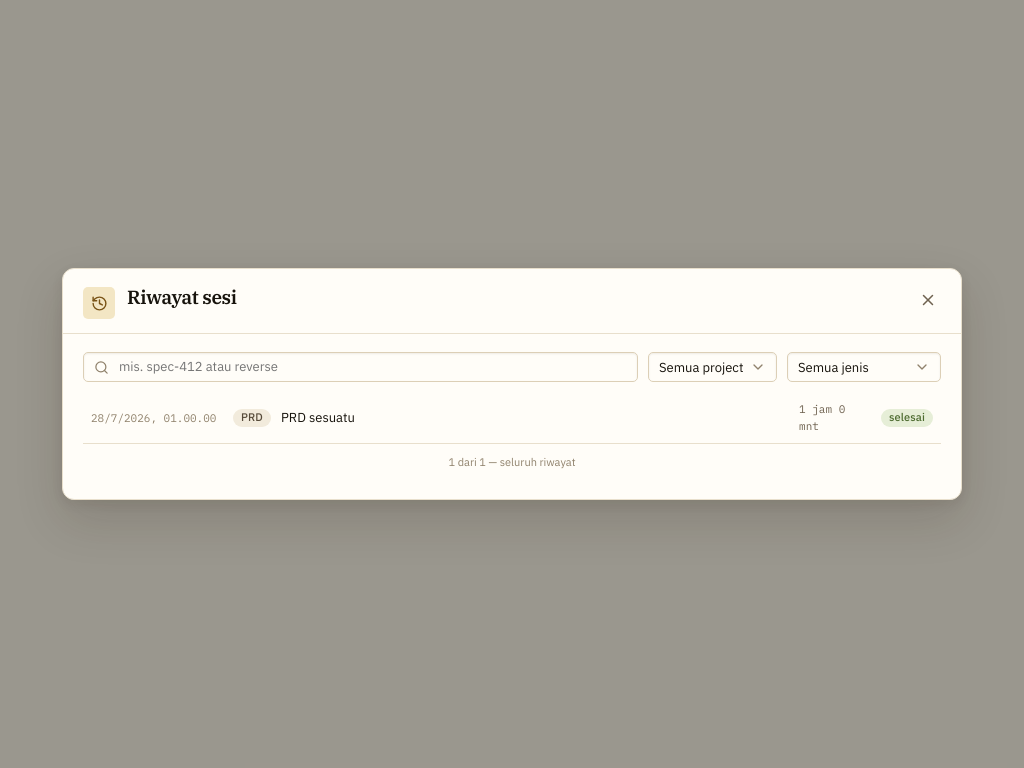
Test case: SessionHistoryModal — detail (SPEC-362) › kind tak restartable tak menawarkan 'Mulai lagi'
Click the text "PRD sesuatu" at (318,418), box [281, 409, 355, 426]
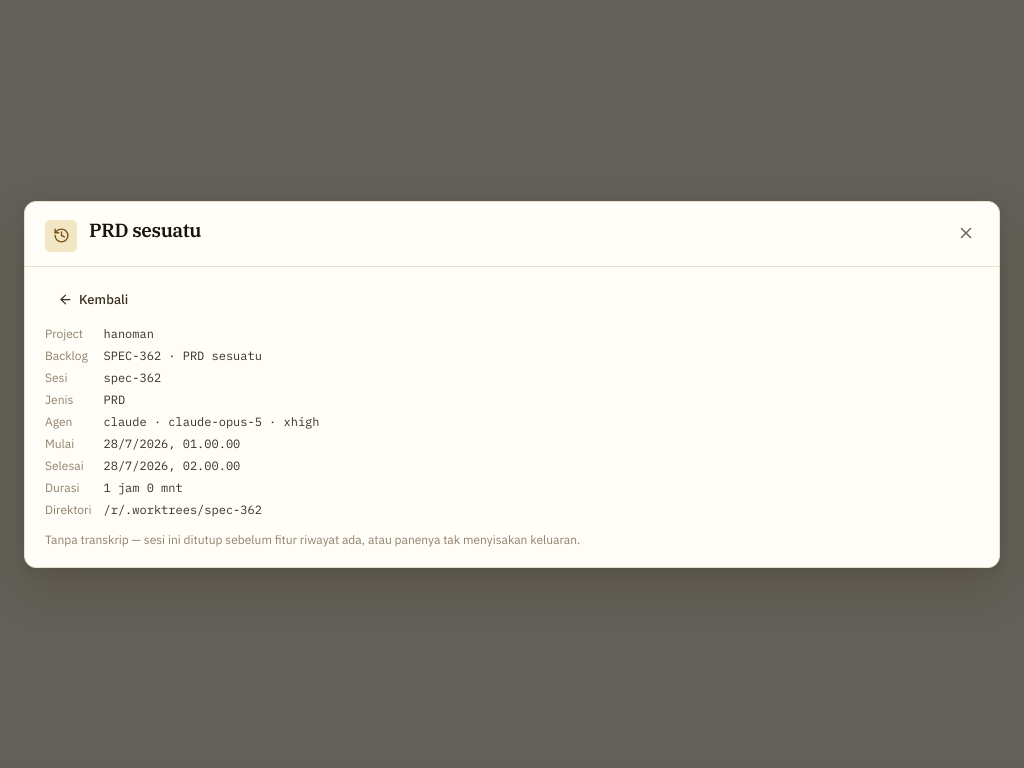
Now the text "Tanpa transkrip" is shown, box [45, 532, 580, 546]
